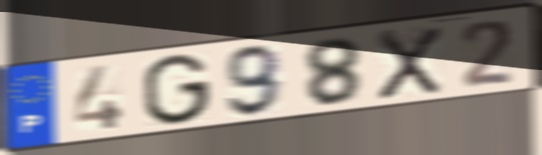2: (459, 18, 515, 91)
4: (71, 62, 125, 134)
8: (299, 34, 364, 107)
9: (223, 43, 286, 119)
G: (141, 52, 213, 128)
X: (374, 24, 445, 102)
